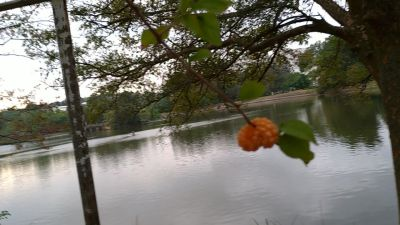eggs: (236, 116, 278, 152)
